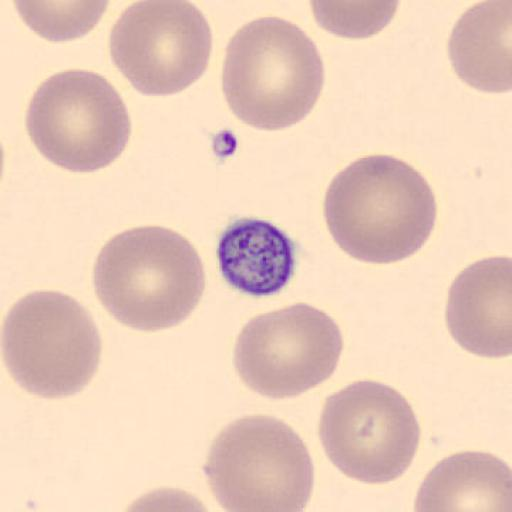Platelet: (213, 214, 300, 298)
RBC: (320, 152, 438, 267), (91, 224, 208, 334), (219, 14, 326, 134), (23, 66, 132, 175), (231, 300, 346, 402), (0, 287, 102, 401), (316, 377, 422, 486), (202, 413, 316, 511), (108, 0, 215, 99), (443, 253, 512, 360), (411, 448, 512, 512), (445, 0, 512, 96), (10, 0, 112, 44), (307, 0, 403, 41), (114, 485, 218, 512)
